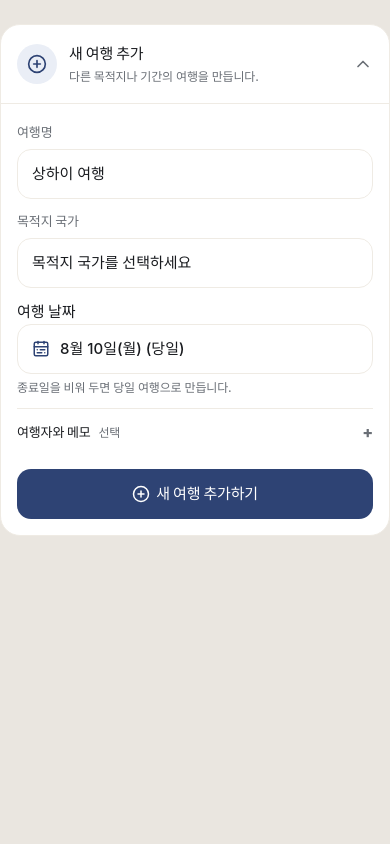
Test: 시작일 없이는 제출 버튼을 막고, 날짜 트리거를 누르면 커스텀 달력이 뜬다
This screenshot has width=390, height=844.
Expected: the button "새 여행 추가하기" is enabled, [17,469,373,519]
Click the button "8월 10일(월) (당일)".
click(122, 348)  # box [17,324,373,374]
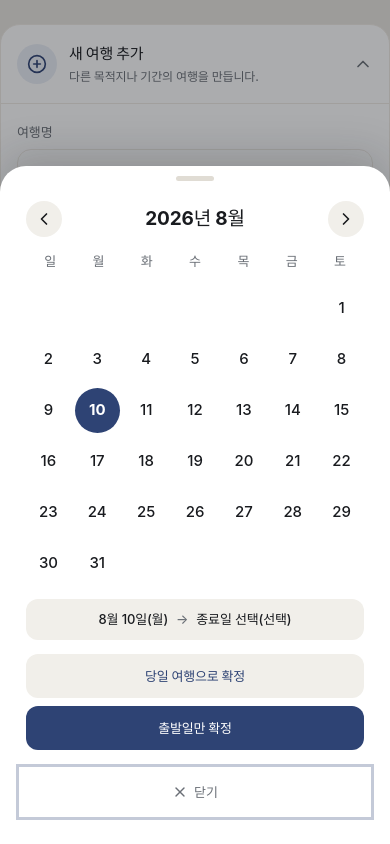
Now the dialog named "여행 날짜 선택" is shown
